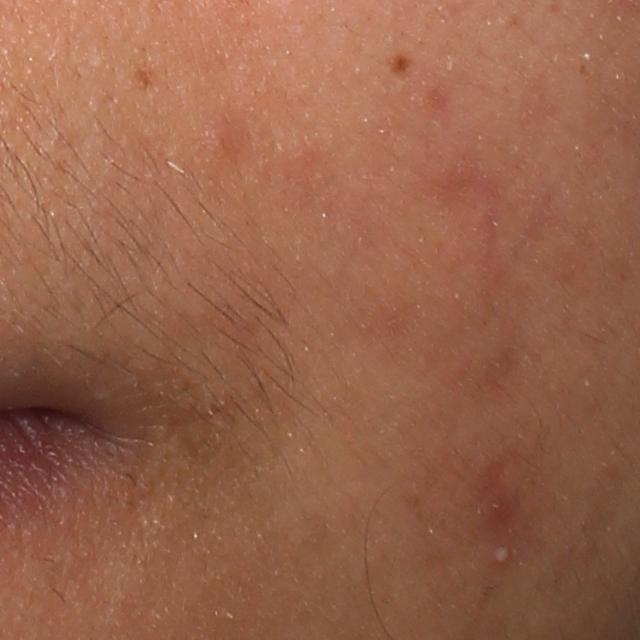nevus: (383, 50, 415, 78), (132, 64, 154, 91)
papule: (197, 111, 258, 167)
pustule: (483, 537, 516, 573)
